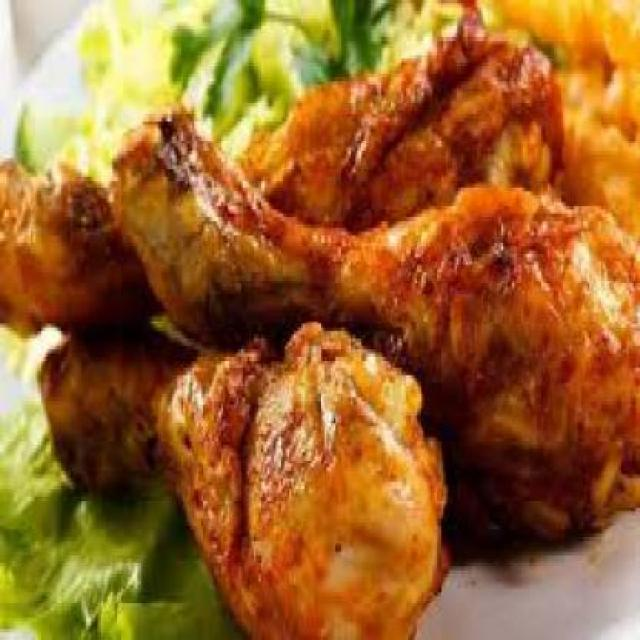Wet Waste: (112, 108, 638, 523), (0, 29, 569, 338), (38, 328, 450, 637)
